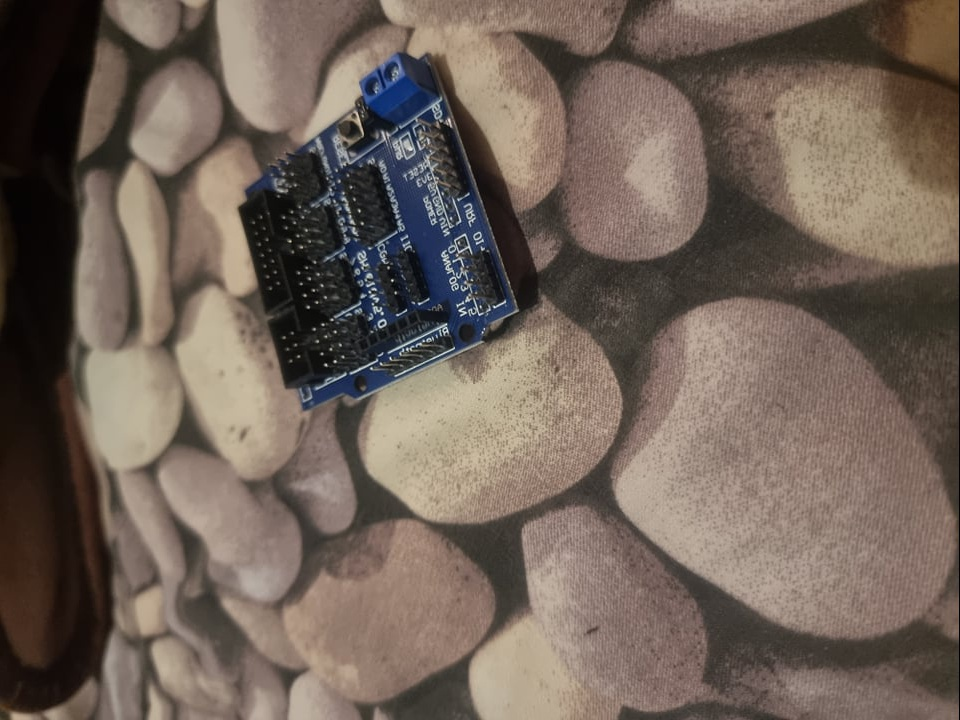5V EXPANSION: (238, 50, 522, 414)
